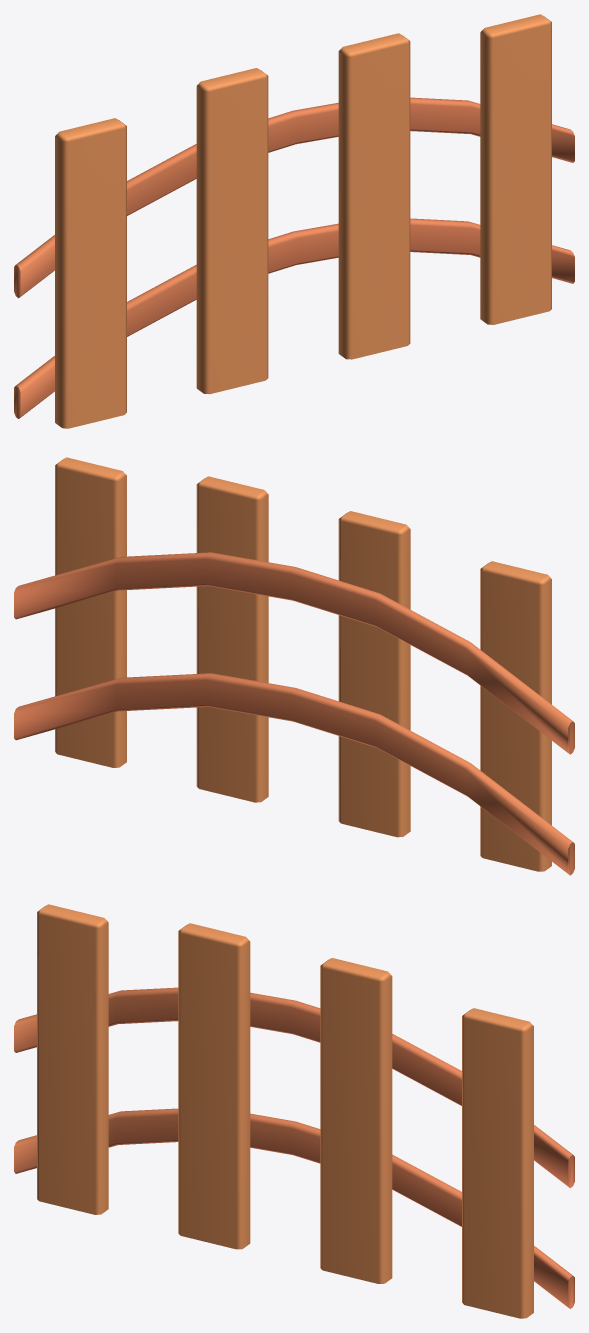
Rendered from Furniture_Partition_2.fbx.
3 views of the same model, one above another, from view 1: azimuth 30°, elevation 25°; view 2: azimuth 150°, elevation 25°; view 3: azimuth 330°, elevation 25° (orthographic).
Parts seen in each view (by area): view 1: Furniture_Partition_2; view 2: Furniture_Partition_2; view 3: Furniture_Partition_2.
Boxes of the visible parts, x1=… form: Furniture_Partition_2: x1=14, y1=14, x2=574, y2=428; Furniture_Partition_2: x1=14, y1=457, x2=574, y2=875; Furniture_Partition_2: x1=14, y1=904, x2=574, y2=1318.
Size of the model in its own units: 175 by 92.45 by 9.89.
